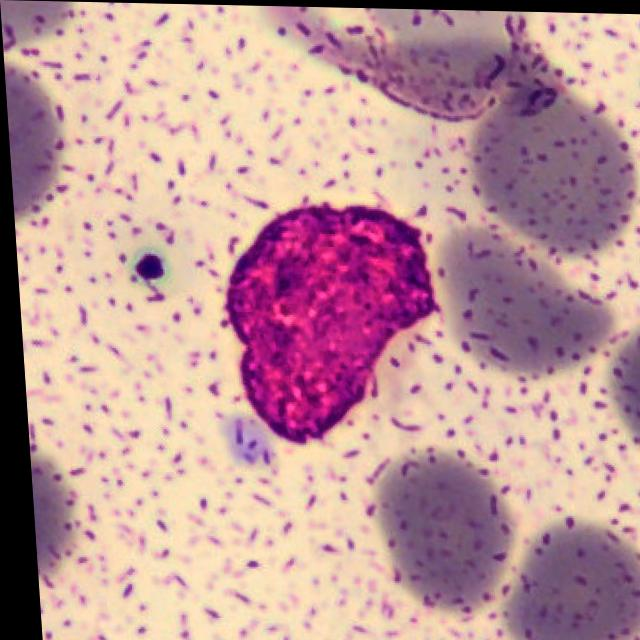Restos celulares: (221, 204, 436, 444)
